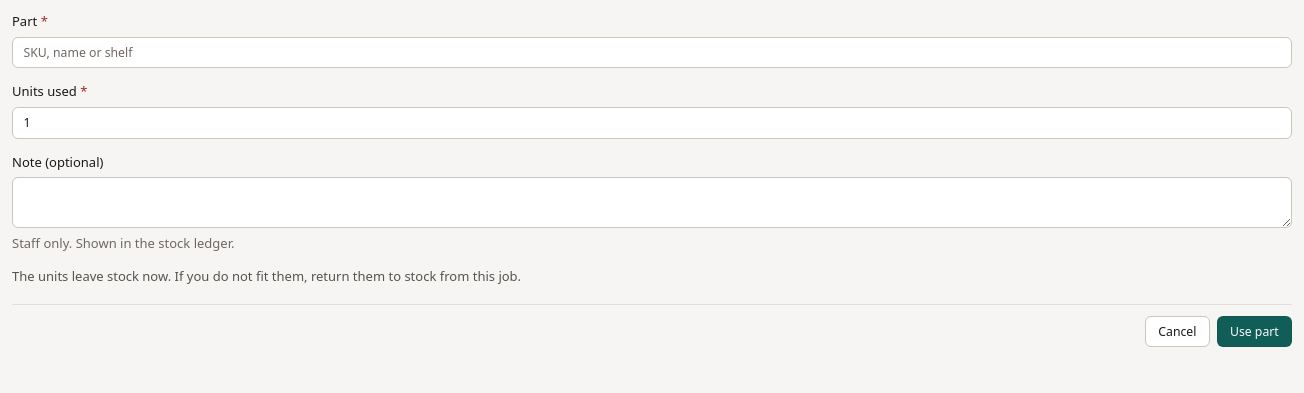
Test: UsePartForm › asks for a part before taking anything out of stock
Click the button "Use part".
click(1254, 331)  # box [1217, 316, 1292, 347]
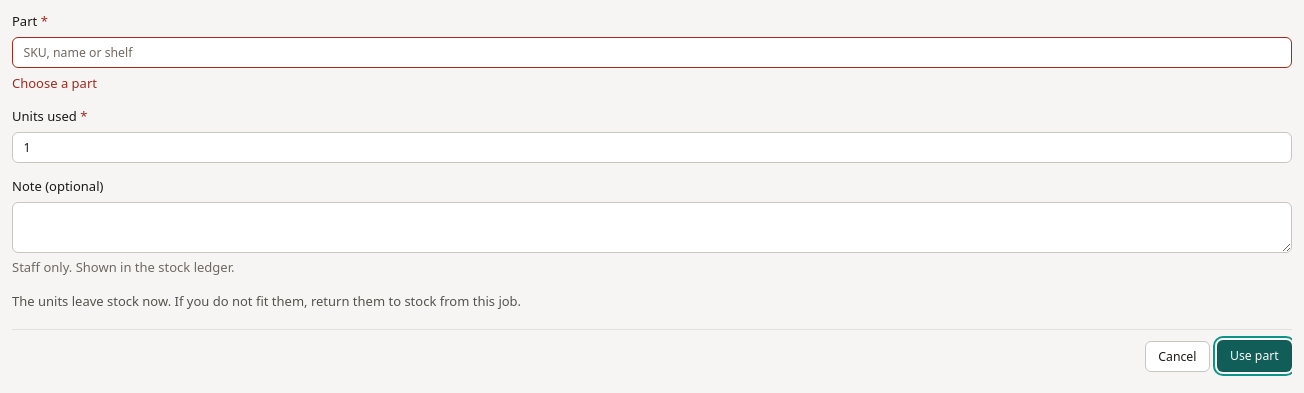
Now the text "Choose a part" is shown, box [12, 74, 97, 92]
